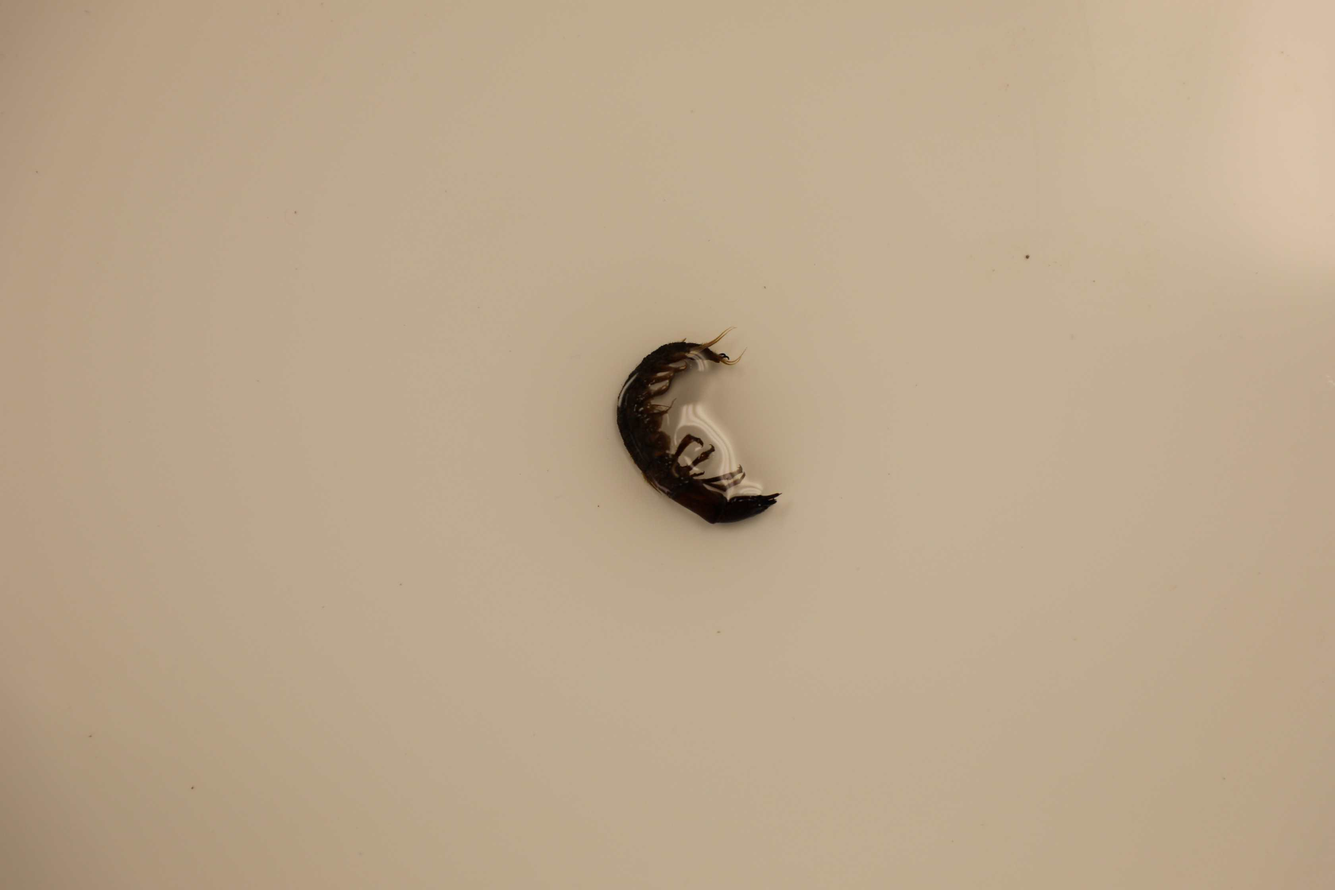Other: (610, 335, 781, 528)
